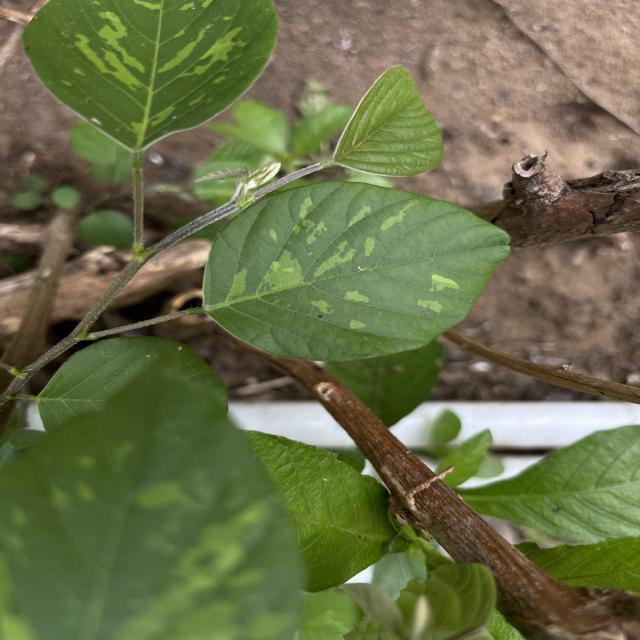Desmodium gangeticum: (200, 178, 514, 364)
